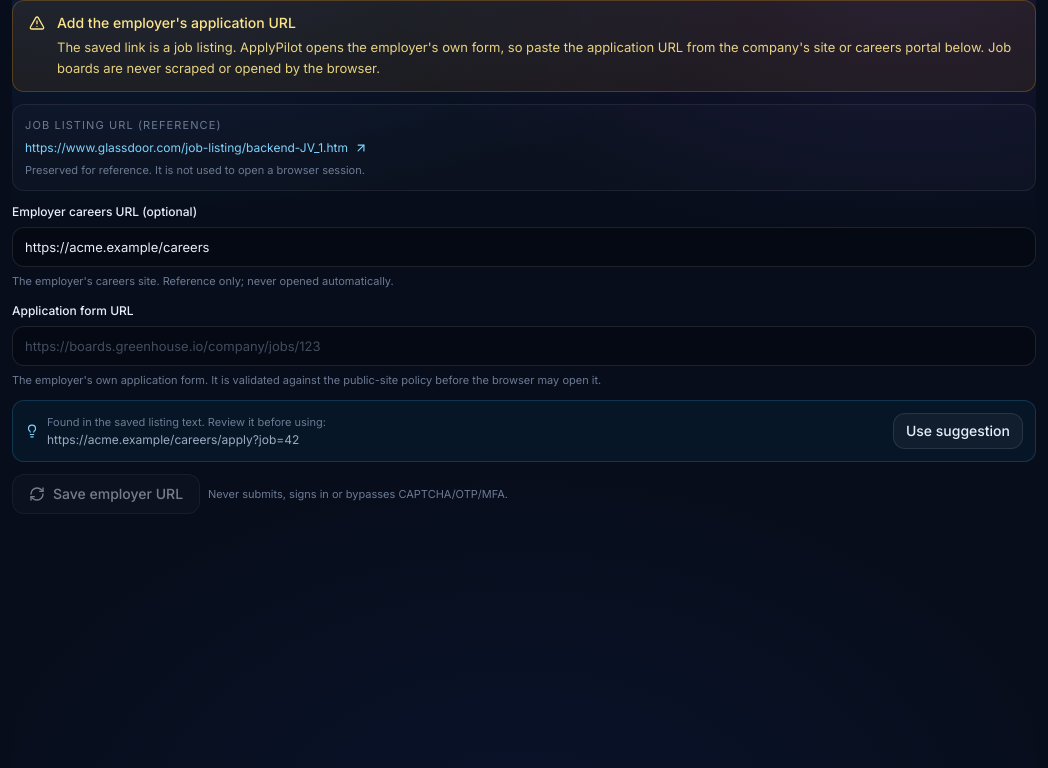
Test case: EmployerApplicationUrlForm › reports an ownership failure and only uses a suggestion on request
The width and height of the screenshot is (1048, 768).
expect the field named "Employer application URL" is empty: met, box left=12, top=326, right=1036, bottom=366
Click the button "Use suggestion".
click(958, 431)  # box left=893, top=413, right=1023, bottom=449
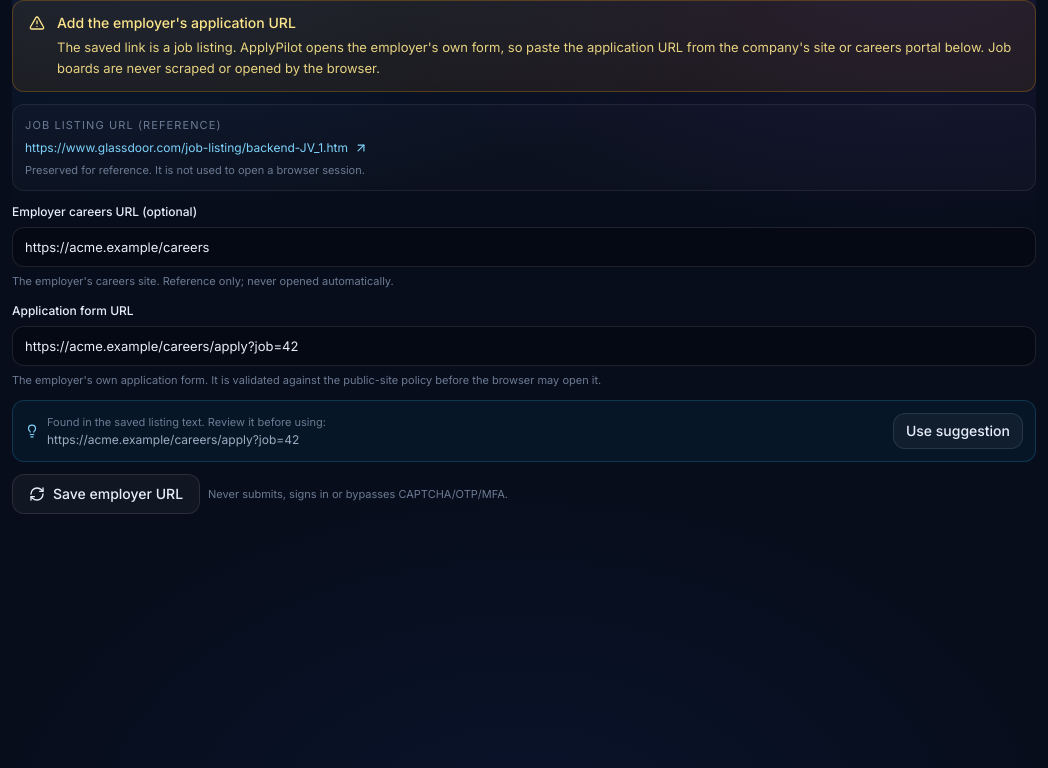
expect the field named "Employer application URL" holds "https://acme.example/careers/apply?job=42": met, box left=12, top=326, right=1036, bottom=366
Click the button "Save employer URL".
click(106, 494)  # box left=12, top=474, right=200, bottom=514
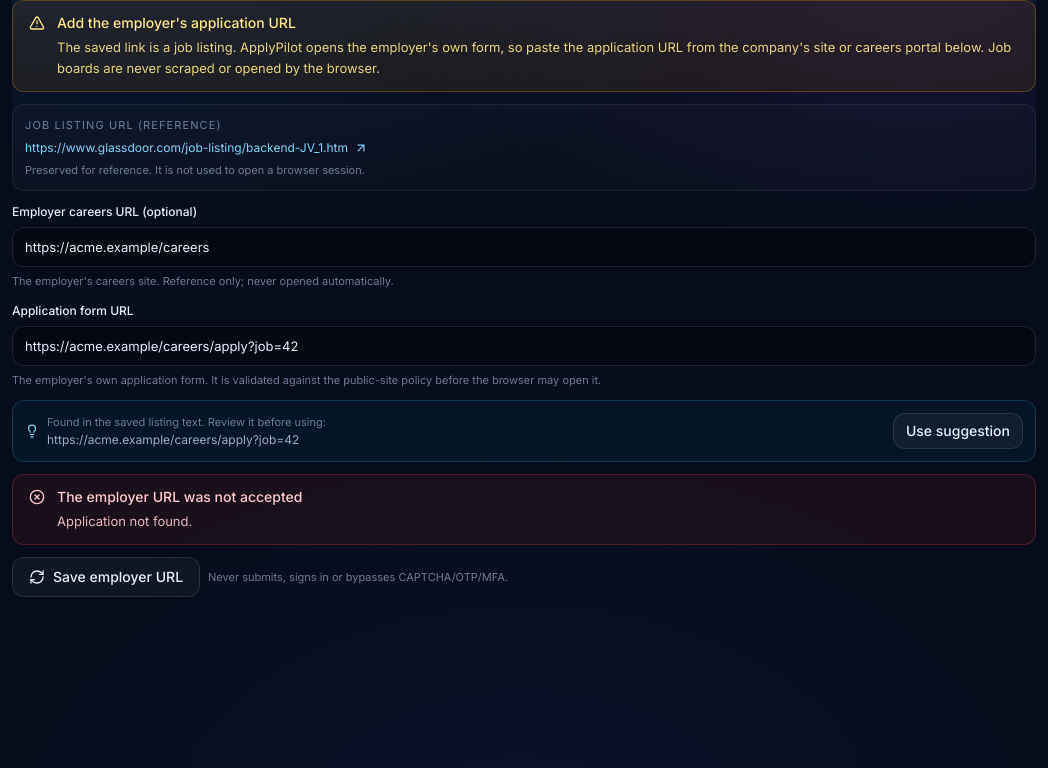
expect the text "Application not found." is shown: met, box left=57, top=513, right=192, bottom=529
